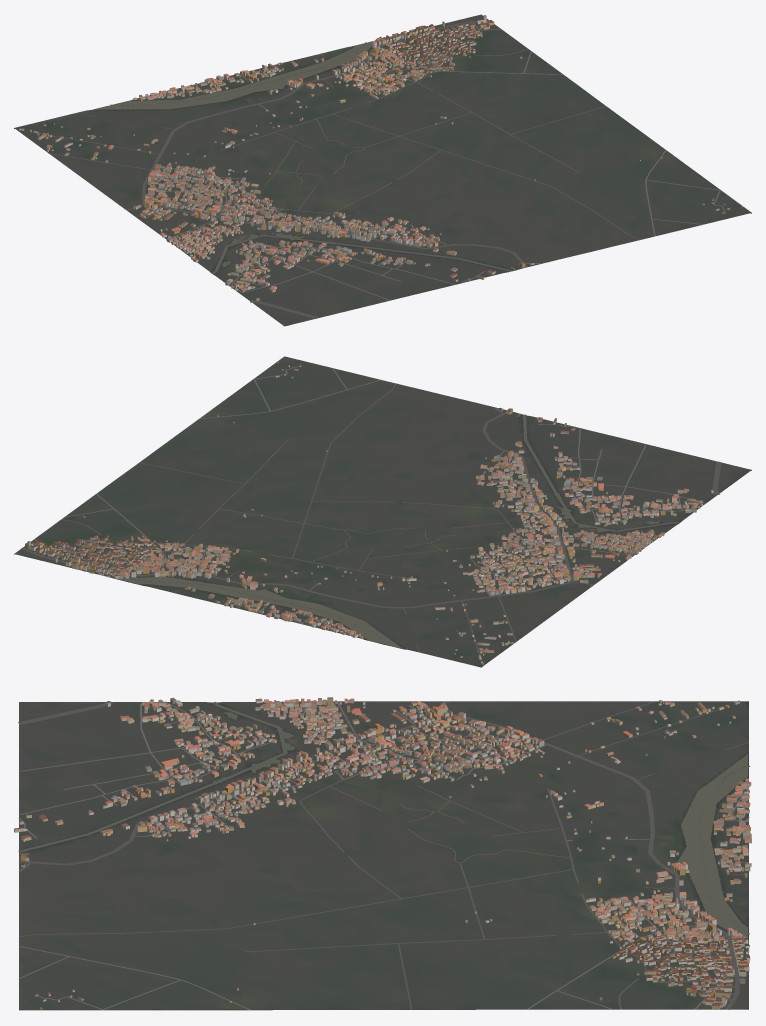
3 views of the same model, one above another, from view 1: azimuth 30°, elevation 25°; view 2: azimuth 150°, elevation 25°; view 3: azimuth 270°, elevation 25° (orthographic). The views are drawn at different scales.
Visible parts, largest first — view 1: ground, buildings, roads, water; view 2: ground, buildings, roads, water; view 3: ground, buildings, roads, water.
Boxes of the visible parts, x1,y1,x2,y2 form: ground: (14, 14, 751, 326); buildings: (19, 15, 743, 300); roads: (38, 19, 725, 318); water: (93, 41, 516, 273); ground: (14, 356, 751, 667); buildings: (25, 361, 713, 664); roads: (21, 366, 721, 654); water: (117, 413, 679, 648); ground: (19, 701, 748, 1010); buildings: (14, 697, 751, 1009); roads: (18, 701, 749, 1010); water: (18, 702, 750, 939).
Size of the model in its own units: 1405 by 23.72 by 1417.
